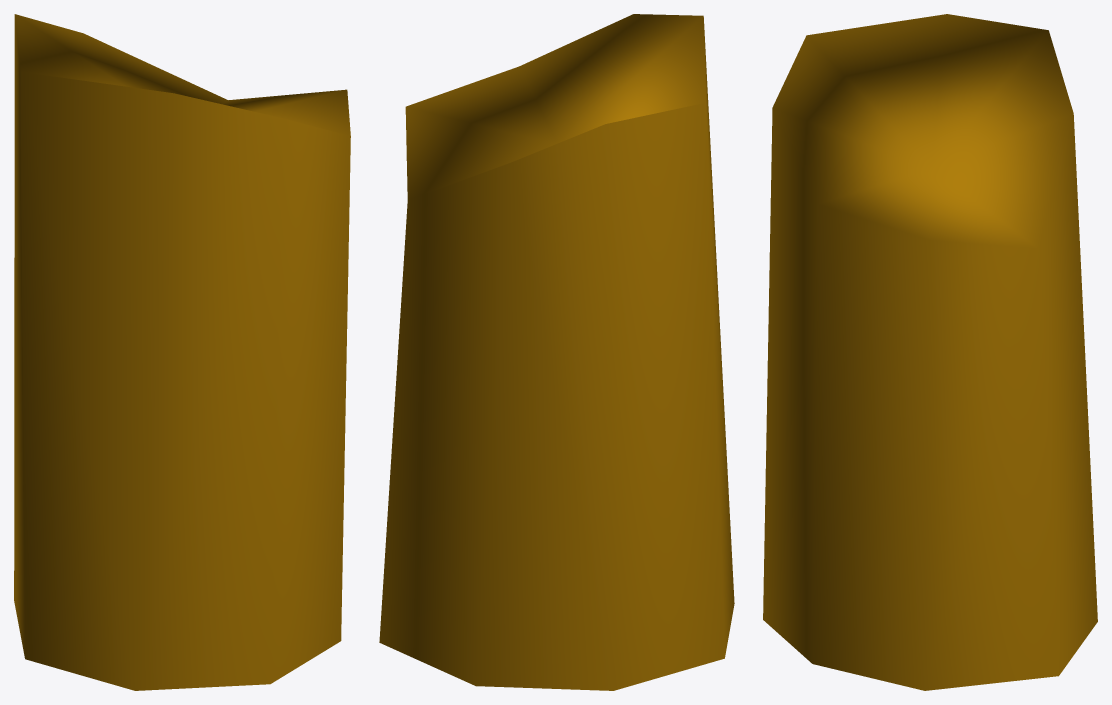
Rendered from SM_Candle_2.fbx.
The picture shows the model from 3 angles, left to right: view 1: azimuth 30°, elevation 25°; view 2: azimuth 150°, elevation 25°; view 3: azimuth 270°, elevation 25°; orthographic projection. The views are drawn at different scales.
Visible parts, largest first — view 1: SM_Candle_2; view 2: SM_Candle_2; view 3: SM_Candle_2.
Boxes of the visible parts, <box> form: SM_Candle_2: <box>14,14,350,690</box>; SM_Candle_2: <box>379,14,734,690</box>; SM_Candle_2: <box>763,14,1097,690</box>.
Bounding box in the file's own units: 0.8318 × 1.45 × 0.7974.
